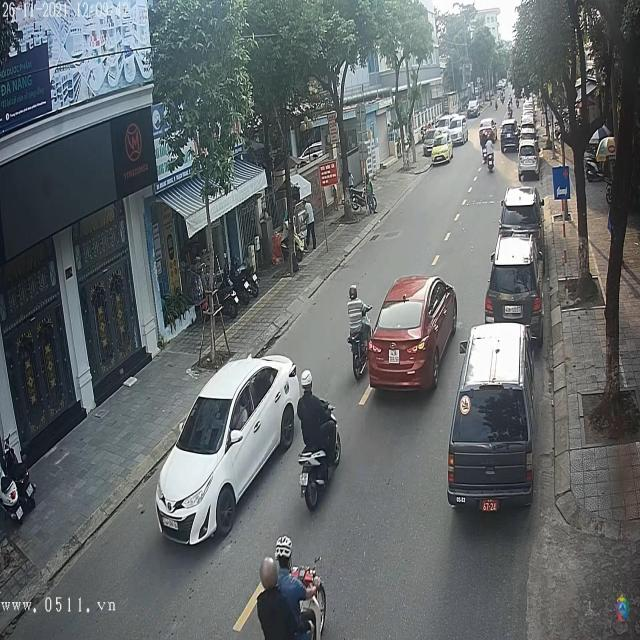car: (156, 354, 305, 546), (450, 318, 534, 510), (367, 274, 459, 393), (486, 233, 544, 333), (501, 185, 544, 236), (517, 143, 539, 182), (501, 125, 519, 152), (468, 99, 482, 117)
motorcycle: (297, 408, 343, 516), (348, 300, 374, 380)
